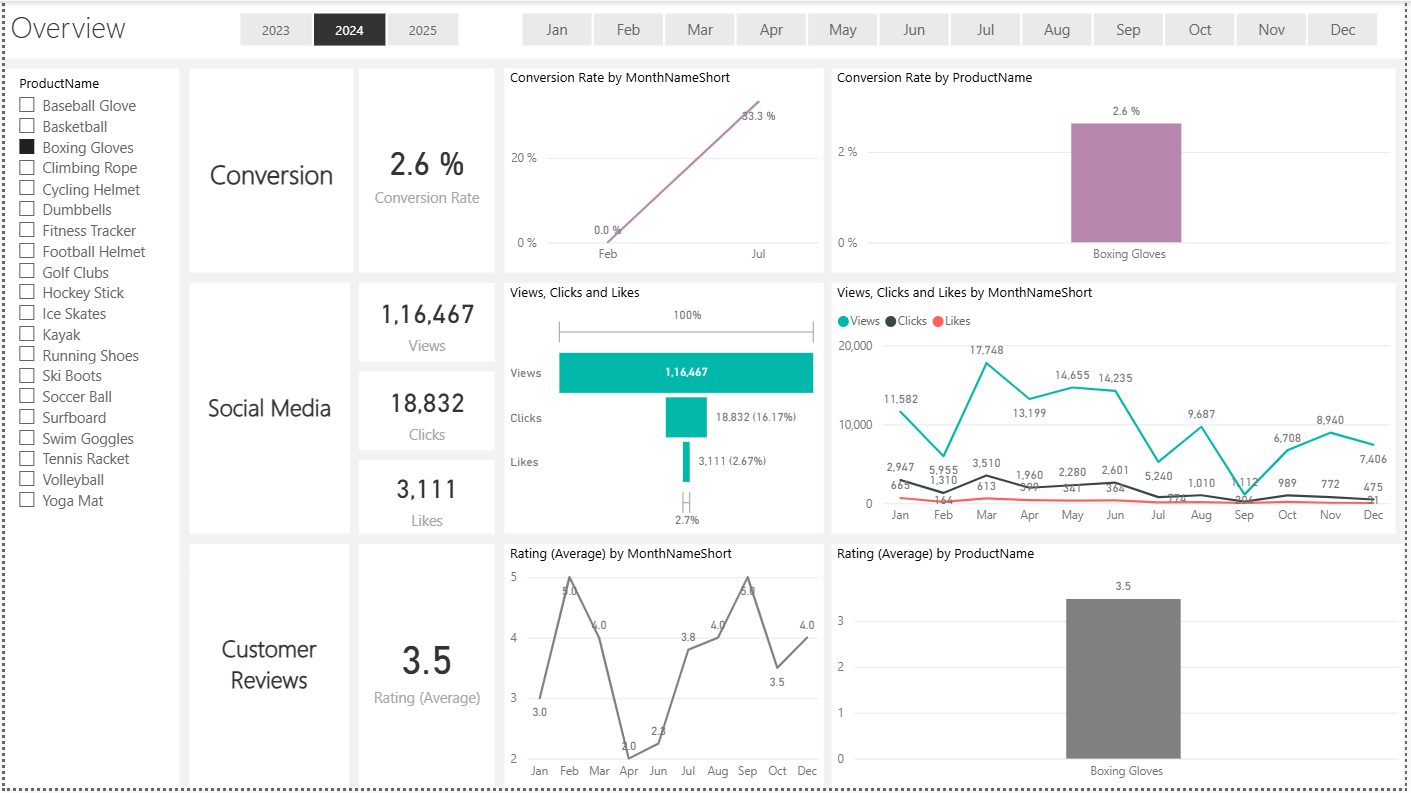

Layout of this report page (visuals, bound fields, positions):
{"tool":"powerbi","page":{"name":"Overview","canvas":[1280,720],"ordinal":0},"visuals":[{"type":"textbox","box":[0,0,1280,52.6],"z":0},{"type":"slicer","fields":{"Values":["dim_products.ProductName"]},"box":[0,61.6,159.5,658.5],"z":1000},{"type":"card","fields":{"Values":["_Calculations.Conversion Rate"]},"box":[324.1,61.9,123.9,186.8],"z":2000},{"type":"card","fields":{"Values":["_Calculations.Rating (Average)"]},"box":[324.1,496.5,123.9,224],"z":3000},{"type":"lineChart","fields":{"Y":["_Calculations.Conversion Rate"],"Category":["Calendar.MonthNameShort"]},"box":[457.1,61.9,292.3,186.7],"z":4000},{"type":"columnChart","fields":{"Category":["dim_products.ProductName"],"Y":["_Calculations.Conversion Rate"]},"box":[756.7,61.9,516.3,186.7],"z":5000},{"type":"slicer","fields":{"Values":["Calendar.Year"]},"box":[189.4,4.6,249.5,43.7],"z":6000},{"type":"slicer","fields":{"Values":["Calendar.MonthNameShort"]},"box":[448,4.6,832.3,43.7],"z":7000},{"type":"lineChart","fields":{"Y":["_Calculations.Views","_Calculations.Clicks","_Calculations.Likes"],"Category":["Calendar.MonthNameShort"]},"box":[756.6,258.1,516.1,229.2],"z":8000},{"type":"lineChart","fields":{"Category":["Calendar.MonthNameShort"],"Y":["_Calculations.Rating (Average)"]},"box":[457.1,496.3,292.3,224],"z":9000},{"type":"columnChart","fields":{"Category":["dim_products.ProductName"],"Y":["_Calculations.Rating (Average)"]},"box":[756.6,496.5,523.4,224],"z":10000},{"type":"funnel","fields":{"Y":["_Calculations.Views","_Calculations.Clicks","_Calculations.Likes"]},"box":[457.3,258.1,292.1,229.2],"z":11000},{"type":"card","fields":{"Values":["_Calculations.Views"]},"box":[324.2,257.7,123.8,71.9],"z":12000},{"type":"textbox","box":[168.5,61.9,150.3,186.7],"z":13000},{"type":"textbox","box":[168.5,257.7,146.6,229.5],"z":14000},{"type":"textbox","box":[168.5,496.3,145.7,224],"z":15000},{"type":"card","fields":{"Values":["_Calculations.Clicks"]},"box":[324.2,338.8,123.8,71.9],"z":16000},{"type":"card","fields":{"Values":["_Calculations.Likes"]},"box":[324.2,419.8,123.8,67.4],"z":17000}]}

Visuals, with their boxes in screenshot pixels (x1, y1, x2, y2), scaled from the page's 1280x720 canvas onto the 1411x793 screenshot:
textbox: <box>0,0,1410,58</box>
slicer - dim_products.ProductName: <box>0,68,176,792</box>
card - _Calculations.Conversion Rate: <box>357,68,494,274</box>
card - _Calculations.Rating (Average): <box>357,547,494,792</box>
lineChart - _Calculations.Conversion Rate x Calendar.MonthNameShort: <box>504,68,826,274</box>
columnChart - dim_products.ProductName x _Calculations.Conversion Rate: <box>834,68,1403,274</box>
slicer - Calendar.Year: <box>209,5,484,53</box>
slicer - Calendar.MonthNameShort: <box>494,5,1410,53</box>
lineChart - _Calculations.Views x _Calculations.Clicks: <box>834,284,1403,537</box>
lineChart - Calendar.MonthNameShort x _Calculations.Rating (Average): <box>504,547,826,792</box>
columnChart - dim_products.ProductName x _Calculations.Rating (Average): <box>834,547,1410,792</box>
funnel - _Calculations.Views x _Calculations.Clicks: <box>504,284,826,537</box>
card - _Calculations.Views: <box>357,284,494,363</box>
textbox: <box>186,68,351,274</box>
textbox: <box>186,284,347,537</box>
textbox: <box>186,547,346,792</box>
card - _Calculations.Clicks: <box>357,373,494,452</box>
card - _Calculations.Likes: <box>357,462,494,537</box>
